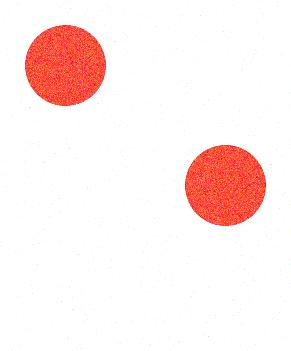E: (19, 19, 272, 337)
